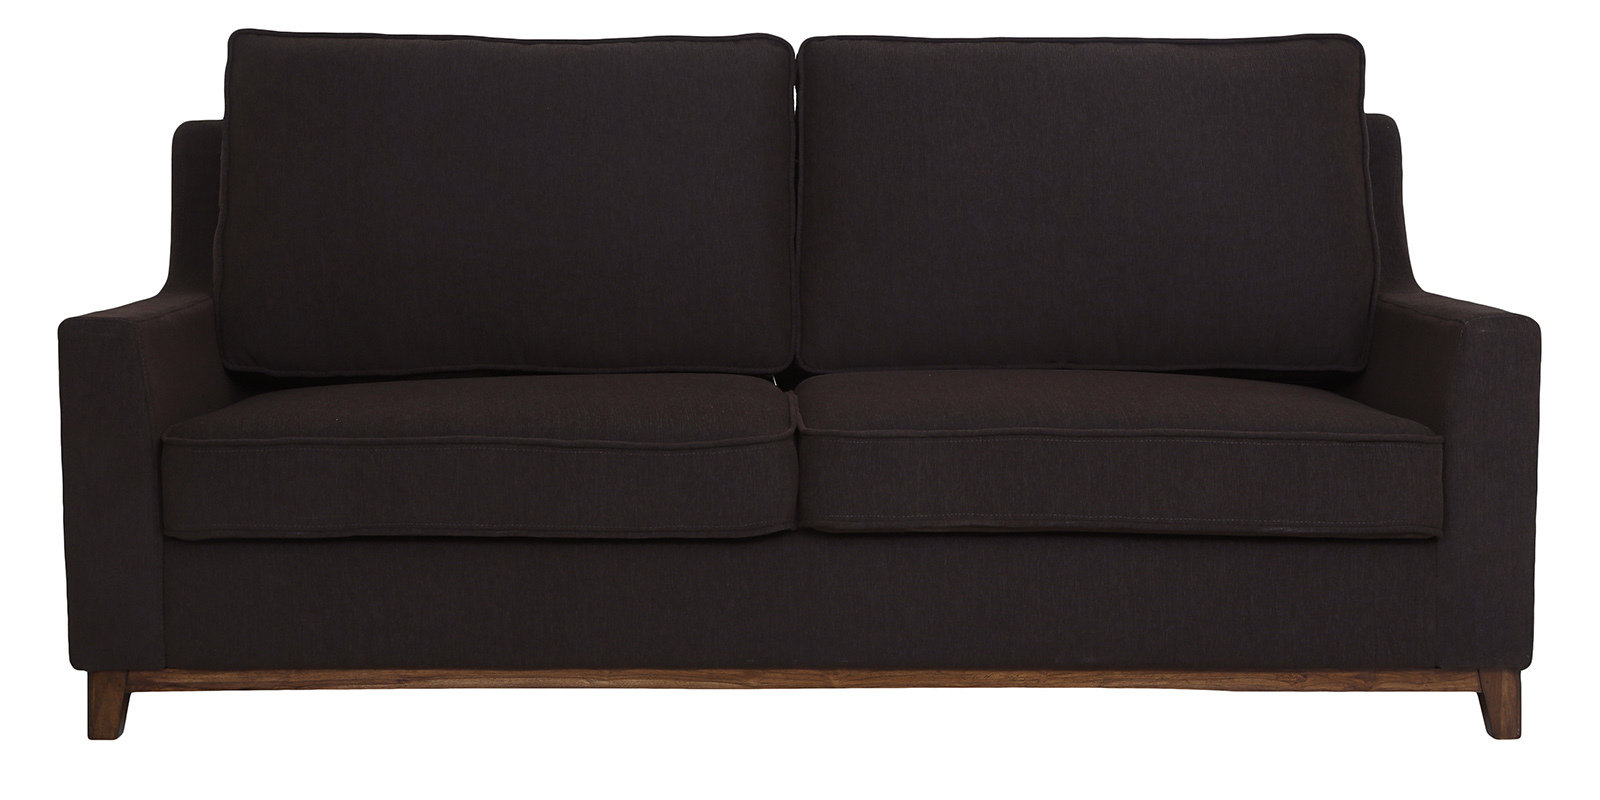Diego Three Seater Sofa in Chestnut Brown Colour by CasaCraft: (48, 21, 1548, 743)
